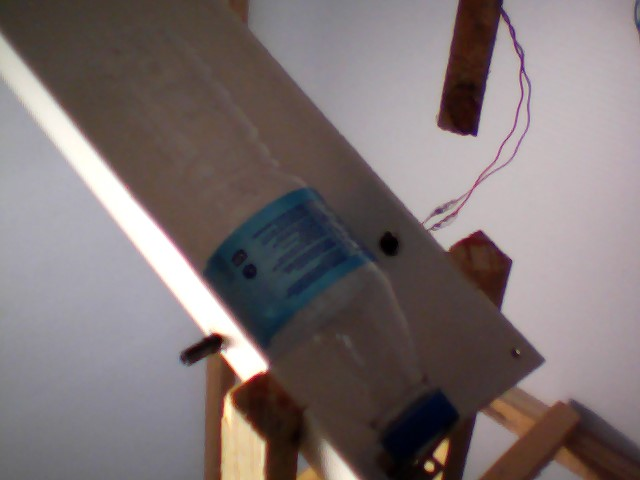plastico: (56, 10, 468, 467)
